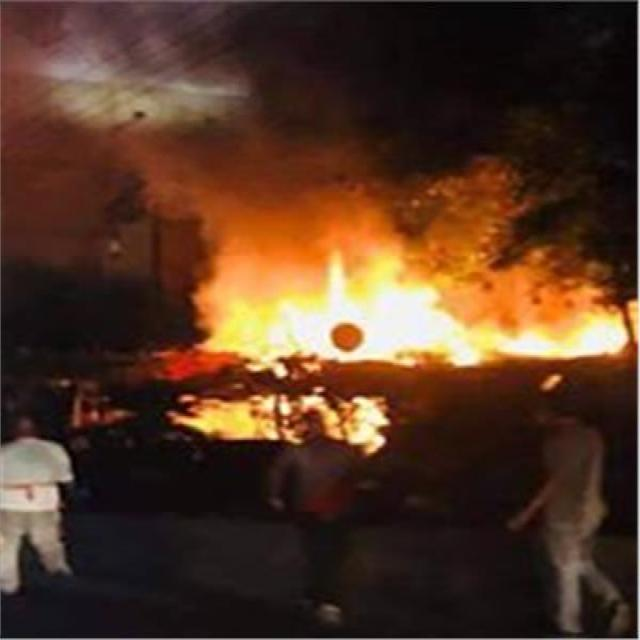fire: (164, 204, 640, 384)
person: (266, 411, 356, 624)
